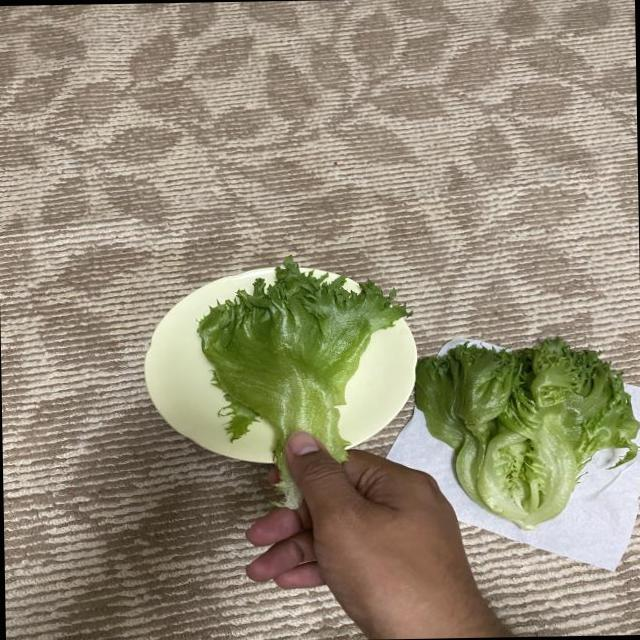Lettuce-Ready-to-Harvest: (198, 257, 407, 506), (415, 337, 638, 527)
